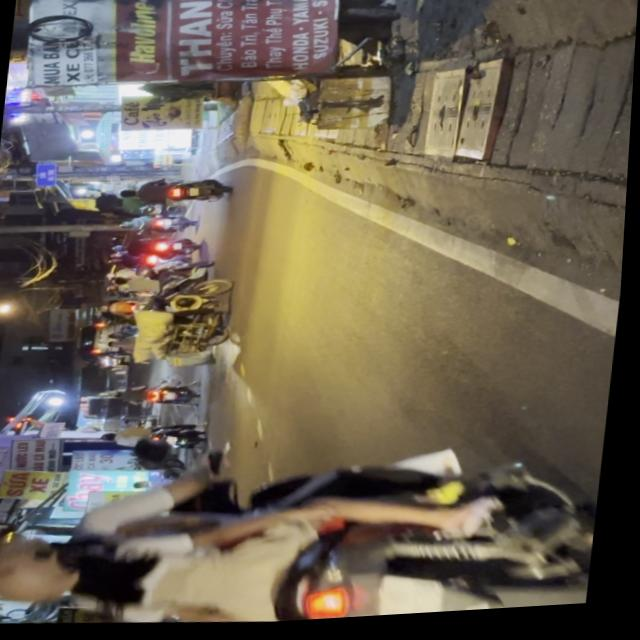helmet: (0, 528, 121, 615)
licenseplate: (0, 419, 611, 640)
nohelmet: (385, 579, 451, 621)
